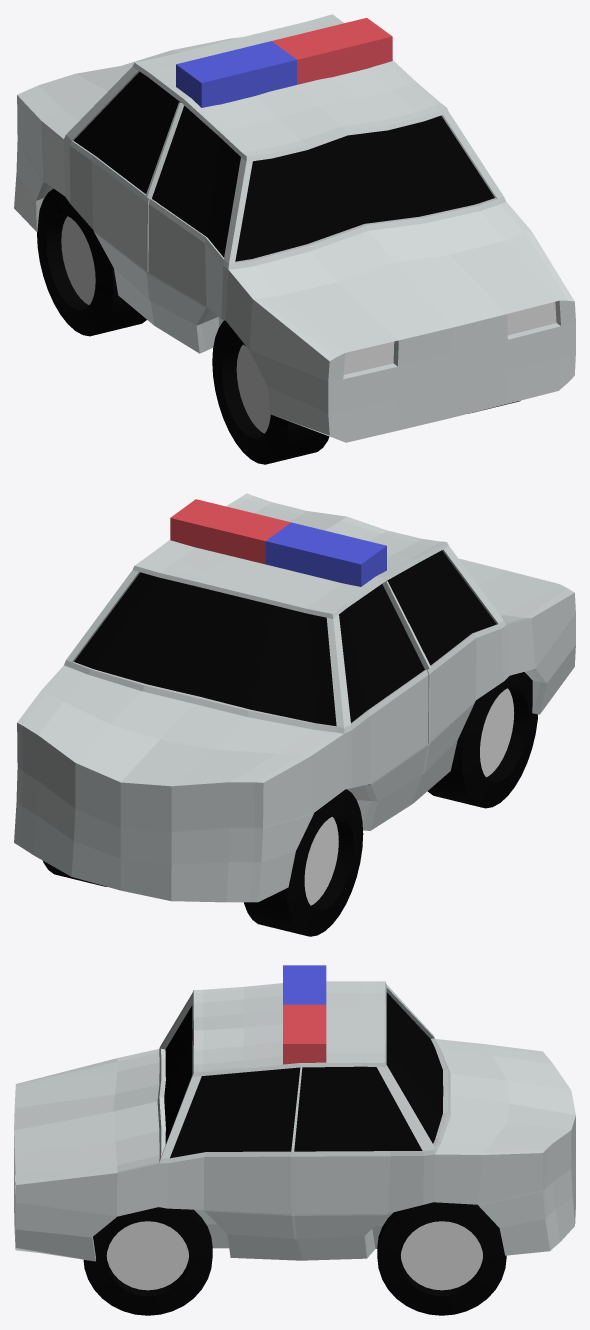
The model's file is policecar.fbx.
3 renders of one model, top to bottom at view 1: azimuth 30°, elevation 25°; view 2: azimuth 150°, elevation 25°; view 3: azimuth 270°, elevation 25°, orthographic. The views are drawn at different scales.
Visible parts, largest first — view 1: Cube.003; view 2: Cube.003; view 3: Cube.003.
Part boxes in pixels (x1,y1,x2,y2): Cube.003: [14, 14, 575, 464]; Cube.003: [14, 493, 575, 936]; Cube.003: [14, 965, 575, 1315].
Bounding box in the file's own units: 273 × 281 × 549.
